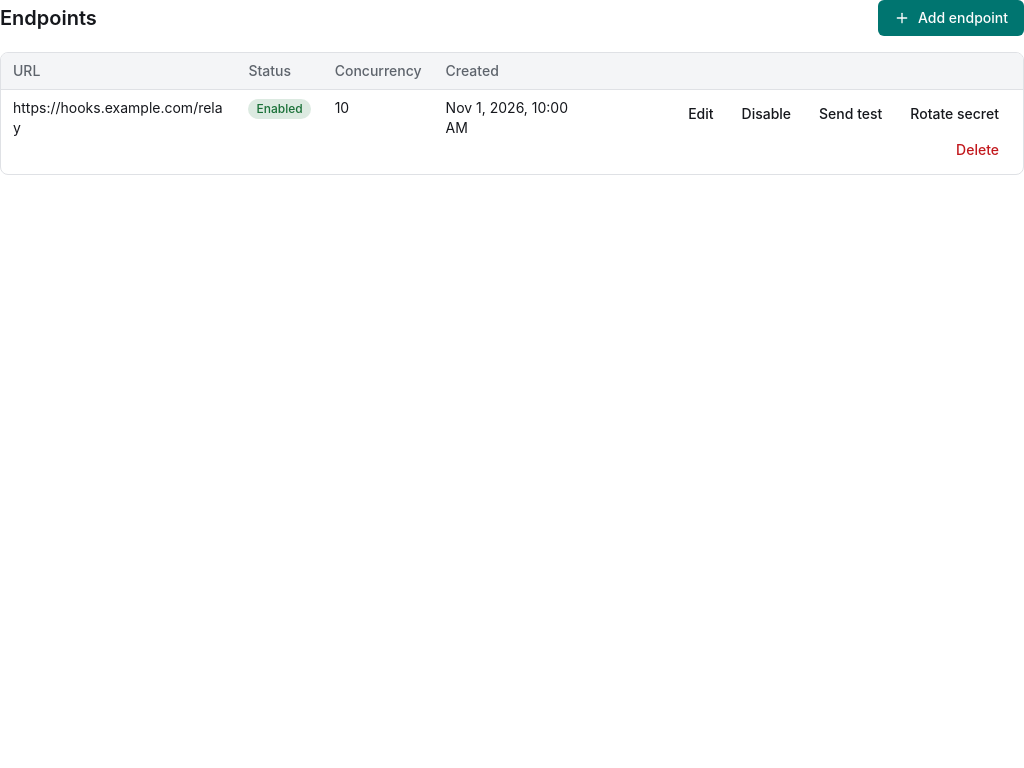
endpoints: create › shows other problems, such as the plan limit, as a general error
Check: the link "https://hooks.example.com/relay" is shown, box [13, 99, 223, 136]
Click the button "Add endpoint".
click(951, 18)  # box [878, 0, 1023, 36]
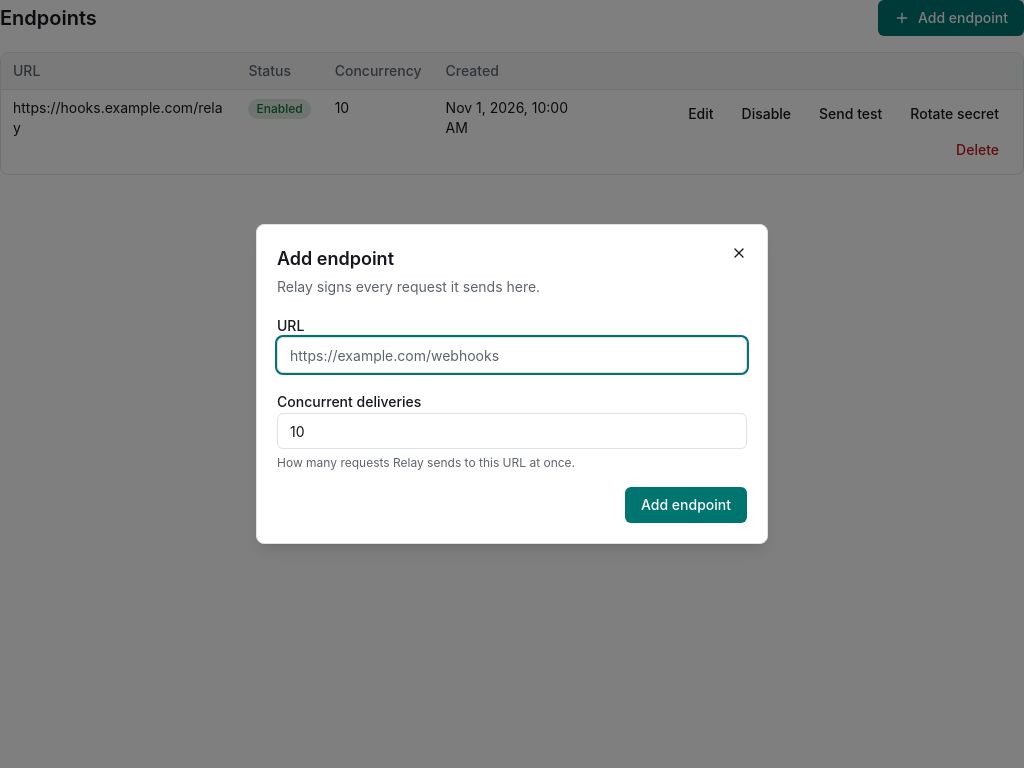
Type "https://new.example.com/hook" into the field labelled "URL".
click(512, 355); type("https://new.example.com/hook")  # box [277, 337, 747, 373]
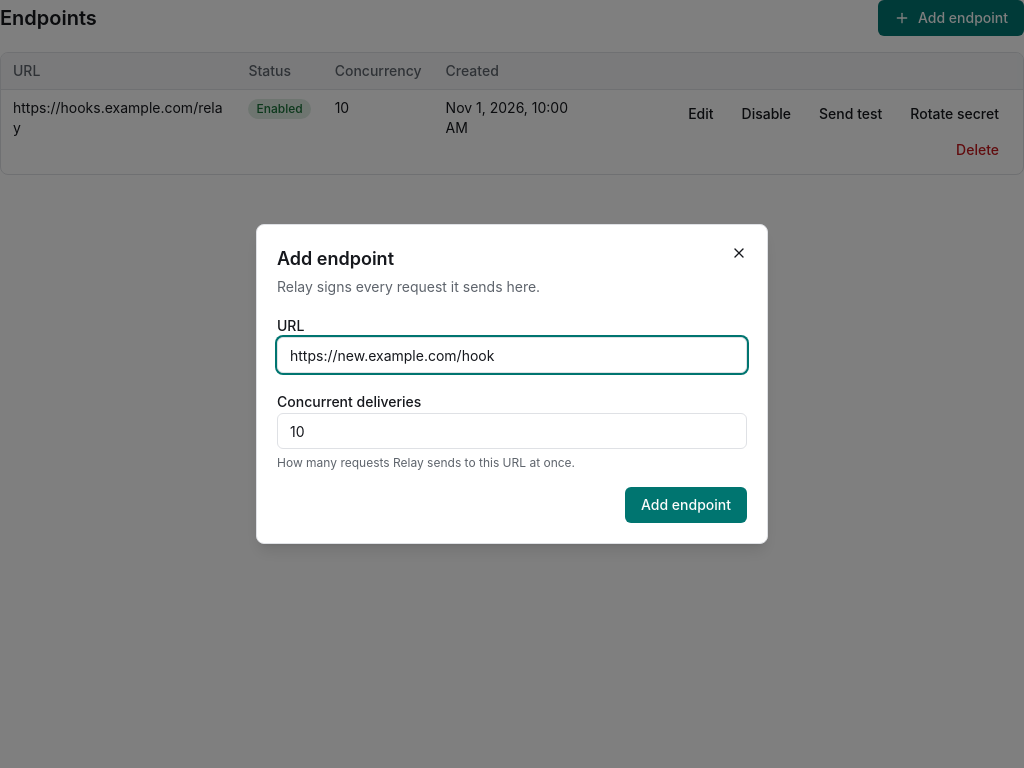
Click the button "Add endpoint".
click(686, 505)  # box [625, 487, 747, 523]
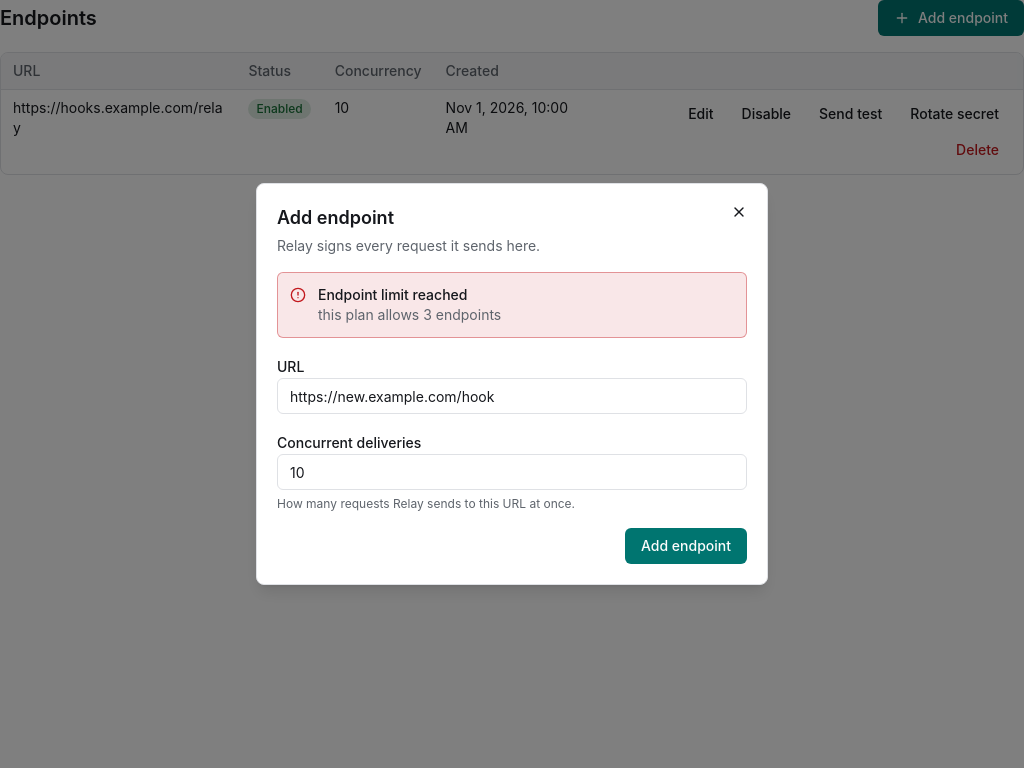
Check: the message shows "Endpoint limit reached", box [318, 286, 467, 303]
